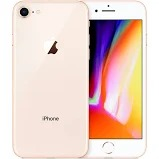iphone: (8, 1, 89, 159)
iphone8: (6, 1, 146, 159)
